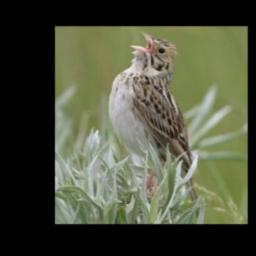Sparrow: (108, 31, 200, 218)
